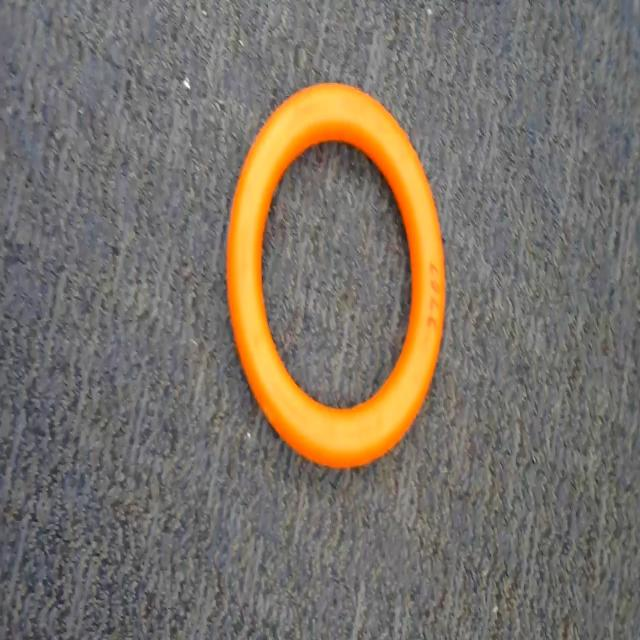note: (204, 77, 473, 495)
